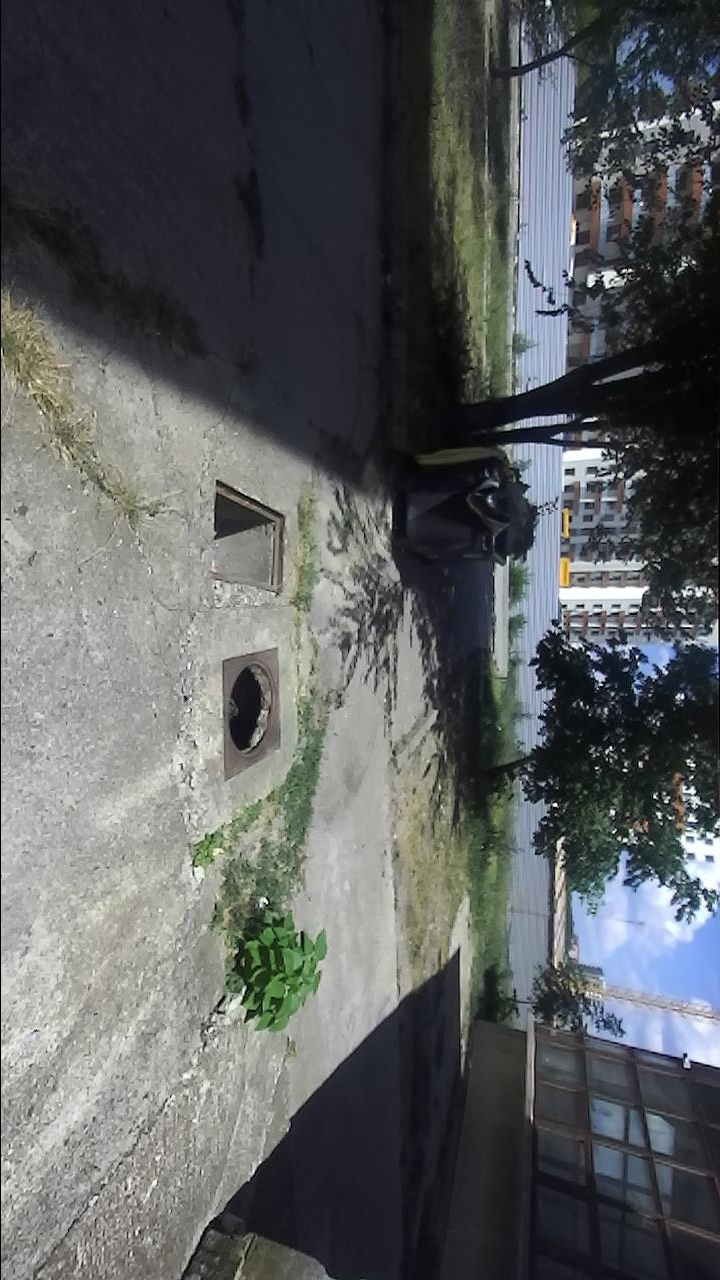drain: (207, 473, 291, 598), (225, 657, 278, 766)
